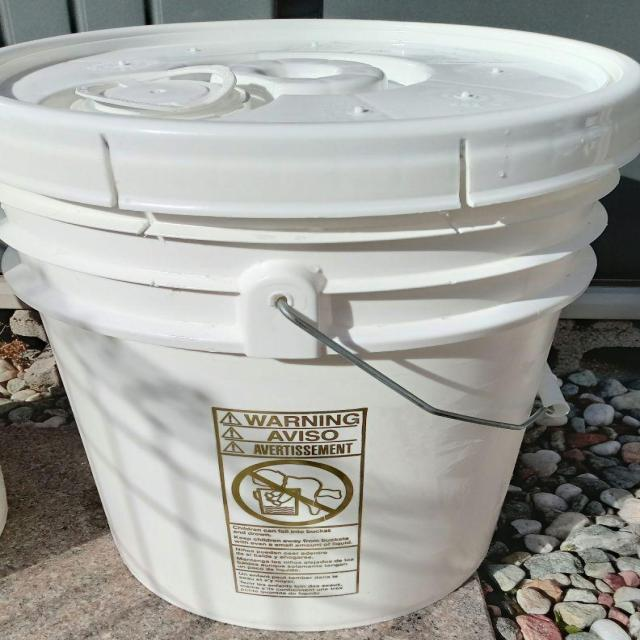plastic: (0, 13, 636, 634)
